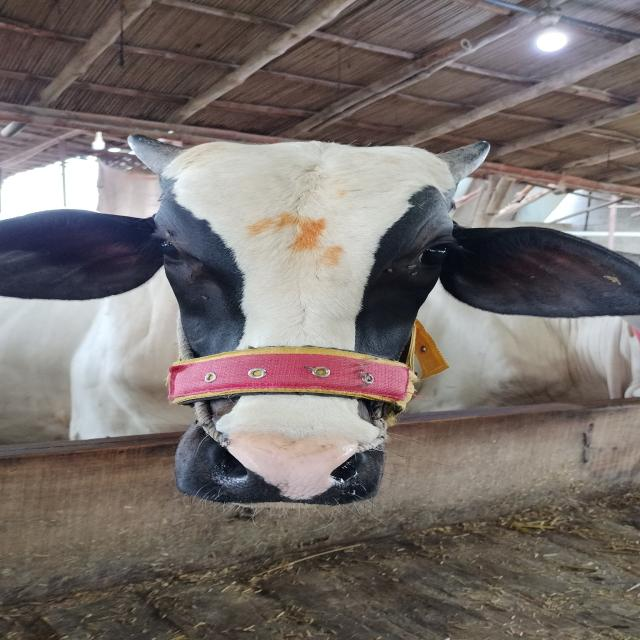muzzles: (190, 424, 383, 507)
